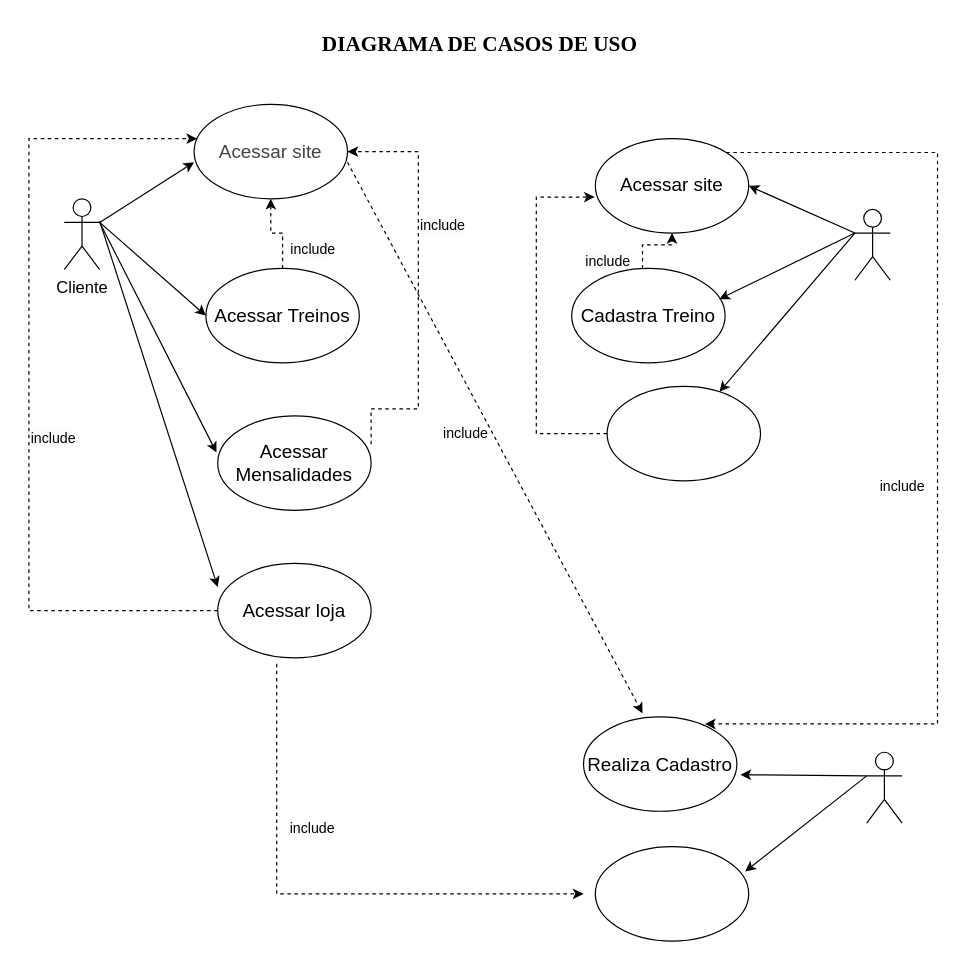
Some shapes in this 968 by 971 pixel diagram are drawn without their labels. Here are the shapes that lost their labels. From the top down, the centre of each, then its label:
[872,244]: Instrutor
[683,433]: Cadastra Avaliação Corporal
[884,787]: Gerente
[671,893]: Gerenciamento da loja
